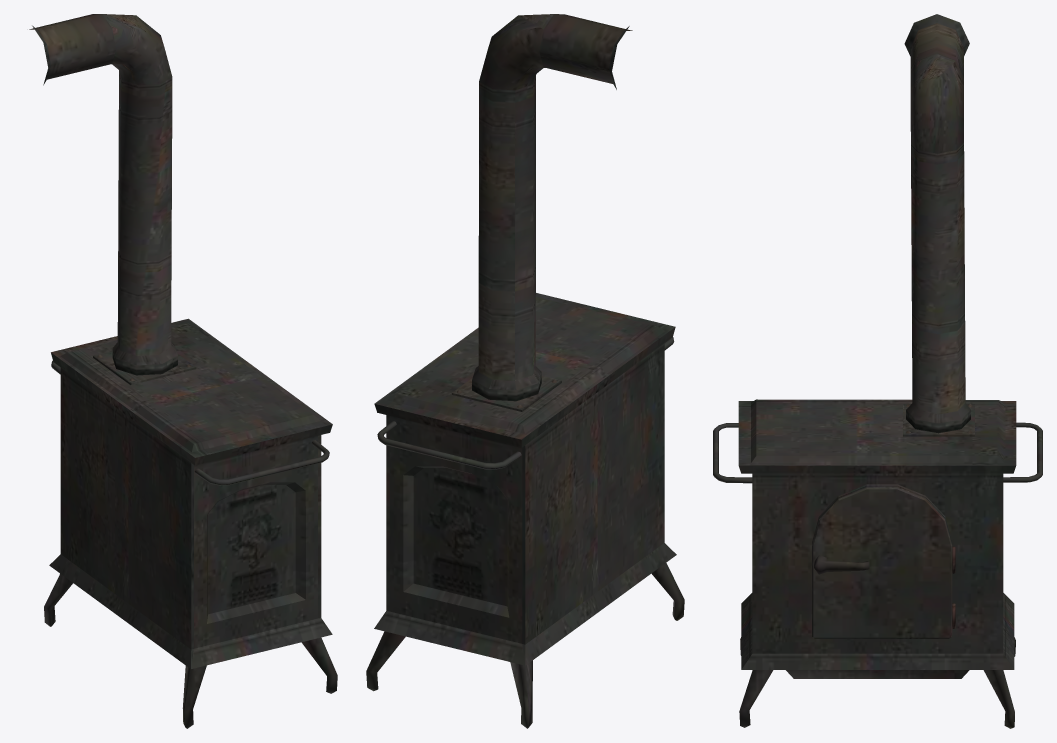
The model's file is furniturefireplace001a.glb.
The picture shows the model from 3 angles, left to right: view 1: azimuth 30°, elevation 25°; view 2: azimuth 150°, elevation 25°; view 3: azimuth 270°, elevation 25°; orthographic projection. The views are drawn at different scales.
Parts seen in each view (by area): view 1: 0_FurnitureMetal002a; view 2: 0_FurnitureMetal002a; view 3: 0_FurnitureMetal002a.
Part boxes in pixels (x1=…): 0_FurnitureMetal002a: x1=29, y1=14, x2=337, y2=728; 0_FurnitureMetal002a: x1=366, y1=14, x2=684, y2=728; 0_FurnitureMetal002a: x1=713, y1=14, x2=1042, y2=728.
Size of the model in its own units: 0.7348 by 2.1 by 1.01.
1 material, 1 textured.
